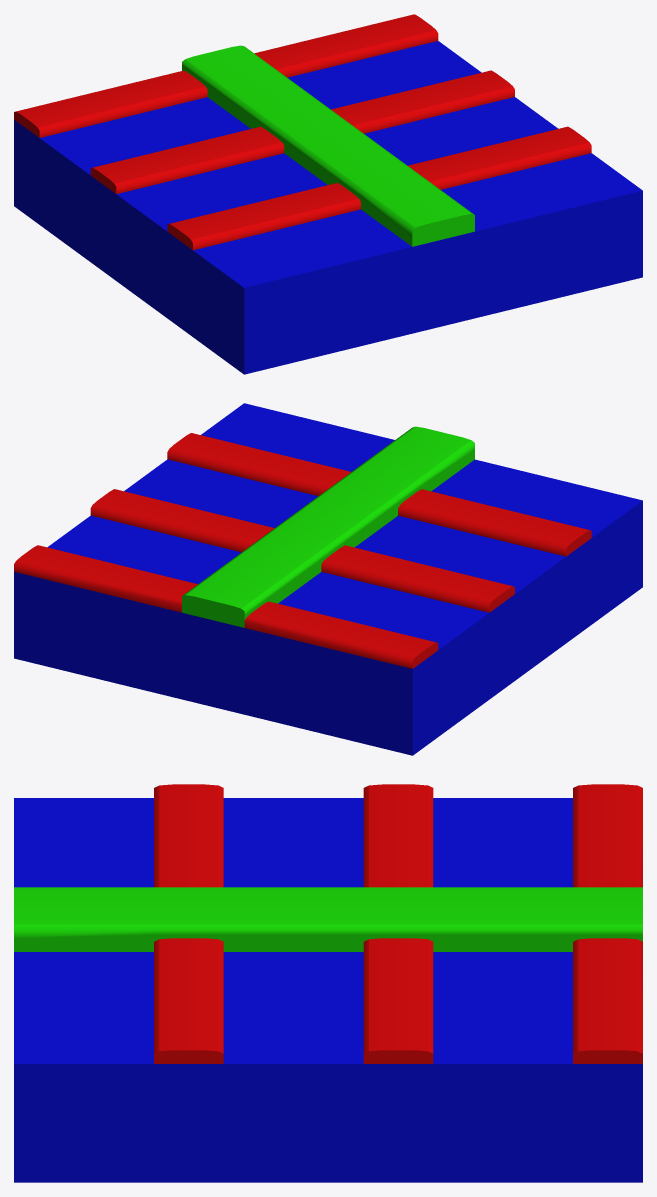
File: FBXceiling.fbx
3 renders of one model, top to bottom at view 1: azimuth 30°, elevation 25°; view 2: azimuth 150°, elevation 25°; view 3: azimuth 270°, elevation 25°, orthographic. The views are drawn at different scales.
Visible parts, largest first — view 1: ceiling_low; view 2: ceiling_low; view 3: ceiling_low.
Boxes of the visible parts, x1,y1,x2,y2 form: ceiling_low: (14, 14, 642, 374); ceiling_low: (14, 403, 642, 755); ceiling_low: (14, 784, 642, 1182).
Size of the model in its own units: 100 by 25.4 by 100.
